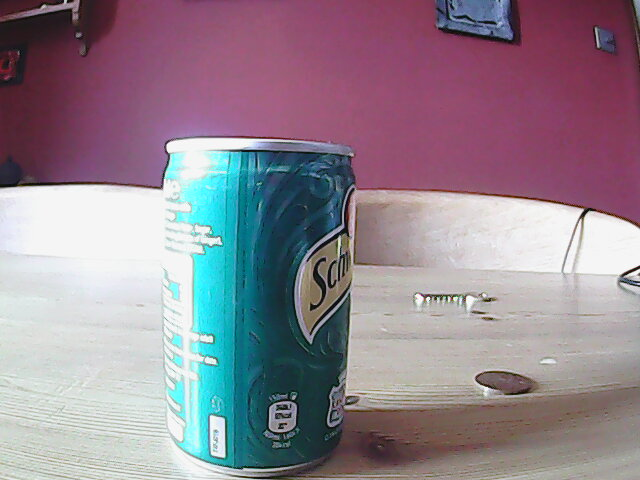Can: (156, 137, 363, 476)
Coin: (473, 366, 534, 400)
Key: (409, 287, 491, 306)
